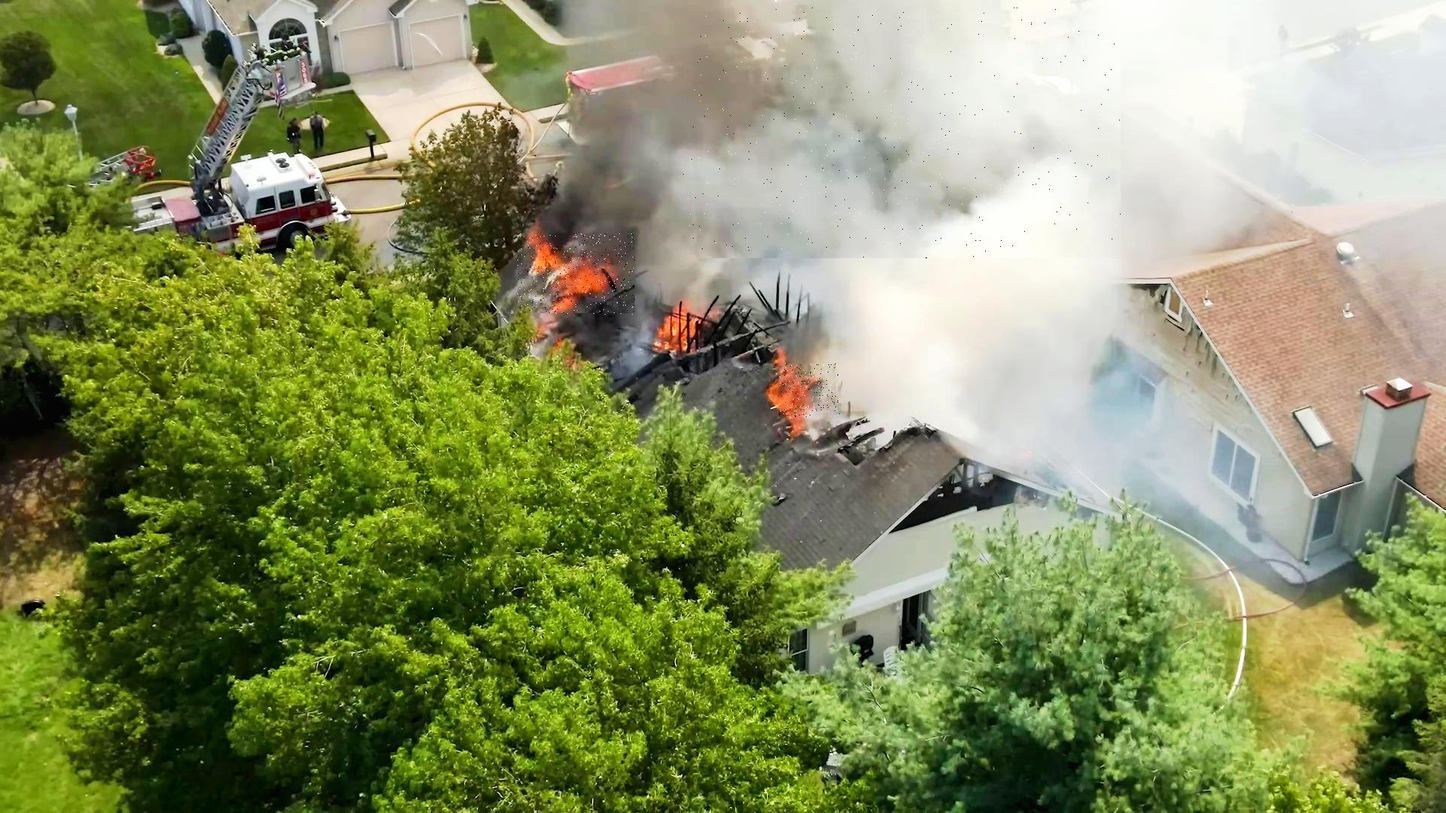fire: (517, 234, 635, 315), (779, 364, 840, 417)
smoke: (683, 8, 1121, 258)
